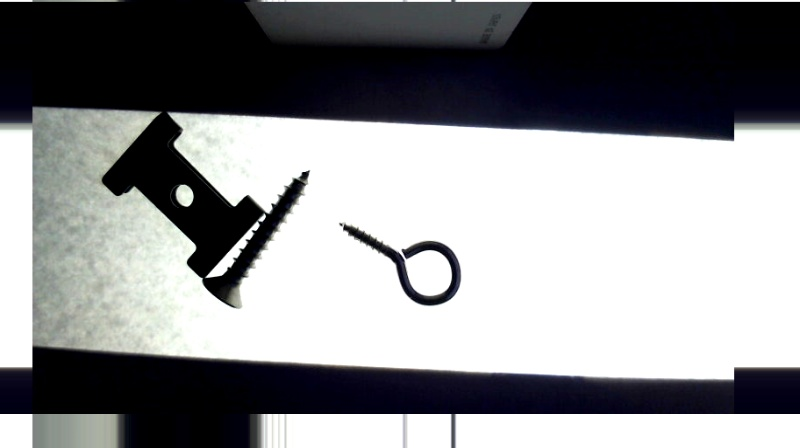O001: (337, 220, 461, 308)
O002: (101, 106, 267, 281)
S001: (199, 168, 310, 312)
